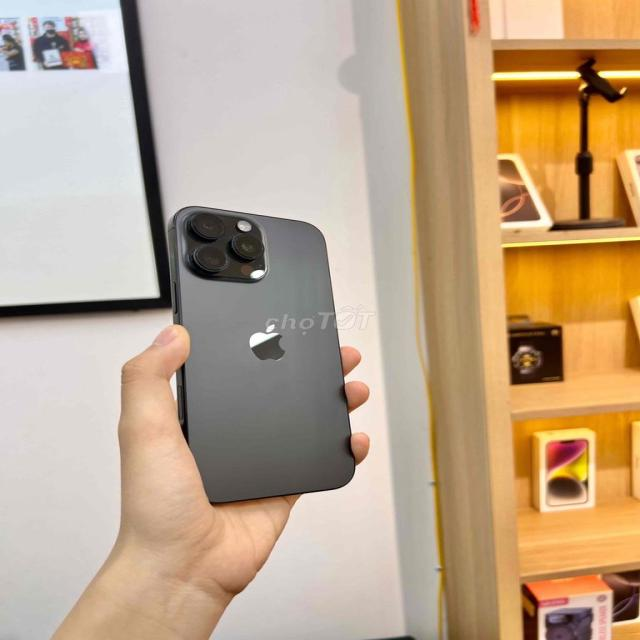scratch: (168, 206, 354, 502)
